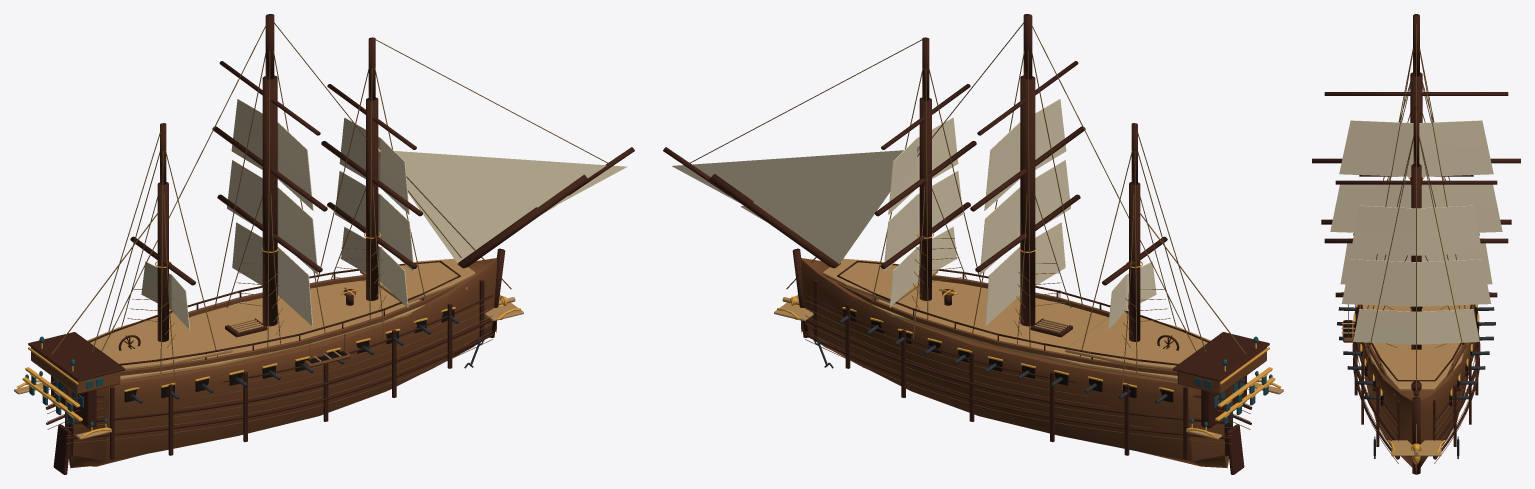
The model's file is AgeOfSailWarship_Frigate_GalleonRefined.fbx.
3 views of the same model, side by side, from view 1: azimuth 30°, elevation 25°; view 2: azimuth 150°, elevation 25°; view 3: azimuth 270°, elevation 25° (orthographic). The views are drawn at different scales.
Parts seen in each view (by area): view 1: Frigate_Hull_Main_Lofted.001, Frigate_Deck_Upper_Main.001, Frigate_Jib_Inner.001, Frigate_Jib_Outer.001, Frigate_Deck_Quarterdeck.001, Frigate_Main_Mast.001, Frigate_Main_SquareSail_1.001, Frigate_Main_SquareSail_0.001, Frigate_Main_SquareSail_2.001, Frigate_Fore_SquareSail_1.001, Refined_Frigate_SterncastleRoof_0.001, Frigate_Fore_Mast.001 (+17 smaller); view 2: Frigate_Hull_Main_Lofted.001, Frigate_Deck_Upper_Main.001, Frigate_Jib_Inner.001, Frigate_Jib_Outer.001, Frigate_Deck_Quarterdeck.001, Frigate_Main_Mast.001, Frigate_Main_SquareSail_1.001, Frigate_Main_SquareSail_0.001, Frigate_Main_SquareSail_2.001, Frigate_Fore_SquareSail_1.001, Refined_Frigate_SterncastleRoof_0.001, Frigate_Fore_Mast.001 (+17 smaller); view 3: Frigate_Main_SquareSail_0.001, Frigate_Fore_SquareSail_1.001, Frigate_Fore_SquareSail_0.001, Frigate_Main_SquareSail_1.001, Frigate_Hull_Main_Lofted.001, Frigate_Fore_SquareSail_2.001, Frigate_Deck_Forecastle.001, Frigate_Main_SquareSail_2.001, Frigate_Deck_Upper_Main.001, Frigate_Fore_Yard_0.001, Refined_Frigate_BeakheadPlatform.001, Frigate_Main_Yard_0.001 (+18 smaller).
Boxes of the visible parts, box(x1,y1,x2,y2) form: Frigate_Hull_Main_Lofted.001: box(69, 258, 497, 468); Frigate_Deck_Upper_Main.001: box(120, 280, 467, 380); Frigate_Jib_Inner.001: box(378, 146, 556, 263); Frigate_Jib_Outer.001: box(378, 150, 627, 208); Frigate_Deck_Quarterdeck.001: box(87, 312, 232, 370); Frigate_Main_Mast.001: box(262, 75, 277, 326); Frigate_Main_SquareSail_1.001: box(227, 160, 318, 274); Frigate_Main_SquareSail_0.001: box(231, 99, 313, 210); Frigate_Main_SquareSail_2.001: box(232, 222, 312, 326); Frigate_Fore_SquareSail_1.001: box(335, 171, 414, 271); Refined_Frigate_SterncastleRoof_0.001: box(28, 332, 125, 381); Frigate_Fore_Mast.001: box(366, 97, 378, 300); Frigate_Hull_Main_Lofted.001: box(800, 258, 1228, 468); Frigate_Deck_Upper_Main.001: box(872, 280, 1177, 380); Frigate_Jib_Inner.001: box(740, 146, 919, 264); Frigate_Jib_Outer.001: box(672, 150, 903, 203); Frigate_Deck_Quarterdeck.001: box(1065, 312, 1210, 370); Frigate_Main_Mast.001: box(1020, 75, 1035, 326); Frigate_Main_SquareSail_1.001: box(979, 160, 1070, 274); Frigate_Main_SquareSail_0.001: box(984, 99, 1066, 210); Frigate_Main_SquareSail_2.001: box(985, 222, 1065, 326); Frigate_Fore_SquareSail_1.001: box(883, 171, 962, 271); Refined_Frigate_SterncastleRoof_0.001: box(1172, 332, 1269, 381); Frigate_Fore_Mast.001: box(919, 97, 931, 300); Frigate_Main_SquareSail_0.001: box(1339, 120, 1493, 176); Frigate_Fore_SquareSail_1.001: box(1341, 259, 1491, 306); Frigate_Fore_SquareSail_0.001: box(1350, 205, 1482, 255); Frigate_Main_SquareSail_1.001: box(1330, 184, 1502, 232); Frigate_Hull_Main_Lofted.001: box(1357, 305, 1475, 474); Frigate_Fore_SquareSail_2.001: box(1353, 309, 1479, 344); Frigate_Deck_Forecastle.001: box(1375, 349, 1457, 390); Frigate_Main_SquareSail_2.001: box(1340, 238, 1492, 284); Frigate_Deck_Upper_Main.001: box(1362, 305, 1470, 395); Frigate_Fore_Yard_0.001: box(1335, 180, 1497, 184); Refined_Frigate_BeakheadPlatform.001: box(1391, 440, 1441, 456); Frigate_Main_Yard_0.001: box(1324, 92, 1508, 95).
Bounding box in the file's own units: 2945 × 1950 × 958.
